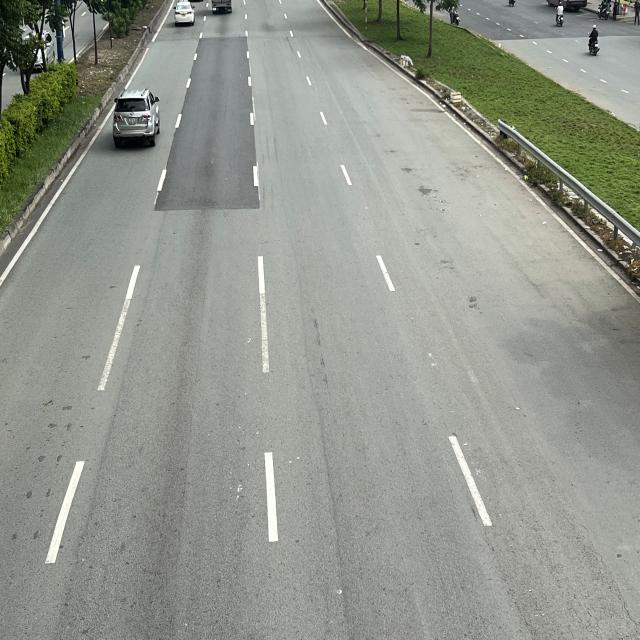car: (114, 88, 160, 147), (172, 0, 196, 29)
